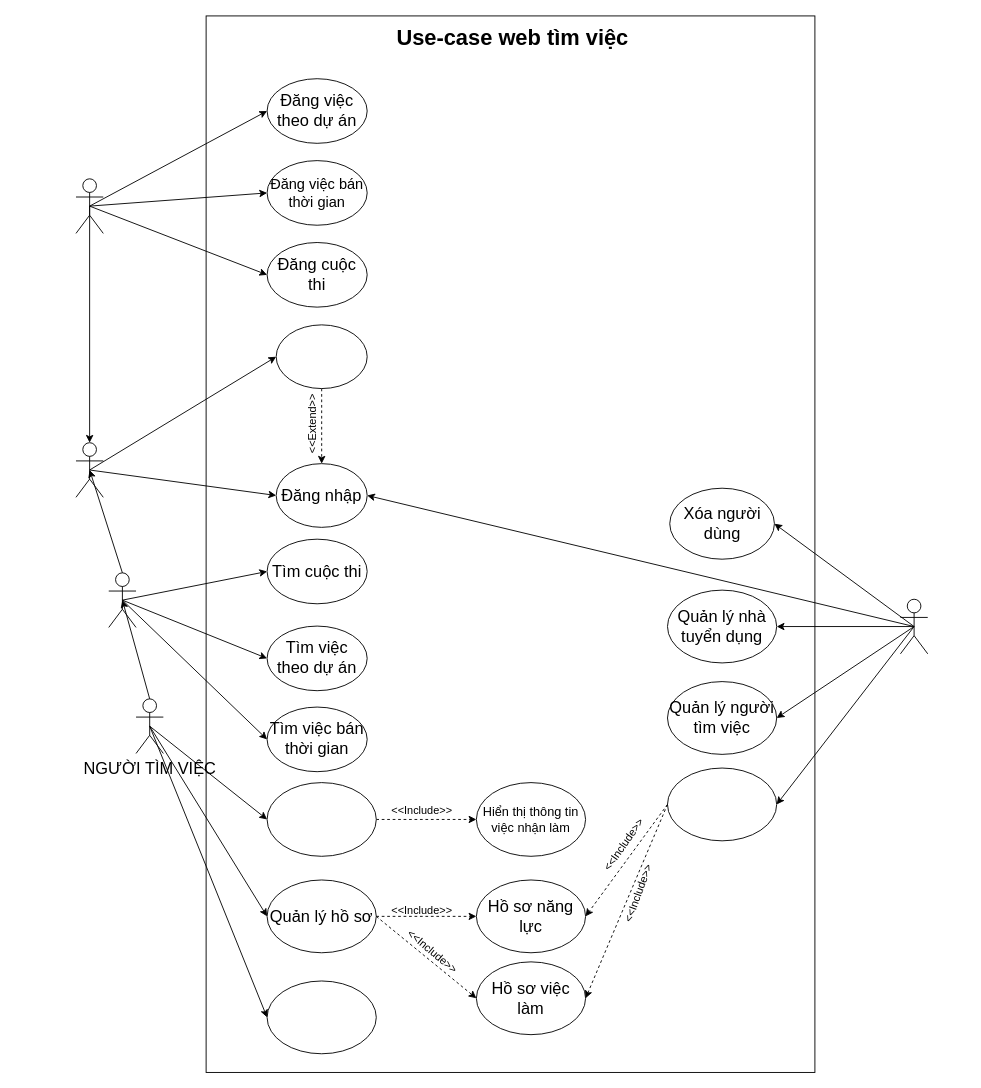
Image size: 981x1088. Some labels were removed from this diagram. Here are the shapes that lost their labels. From the top down, the box of each, then its label:
(75, 178, 103, 233): NHÀ TUYỂN DỤNG
(275, 324, 367, 389): Đăng kí
(75, 442, 103, 497): NGƯỜI DÙNG
(108, 572, 136, 627): KHÁCH
(900, 598, 928, 654): QUẢN TRỊ
(266, 782, 376, 856): Quản lý nhận việc làm
(667, 767, 777, 841): Thống kê danh sách hồ sơ ứng tuyển
(266, 980, 376, 1054): Thông tin cá nhân
